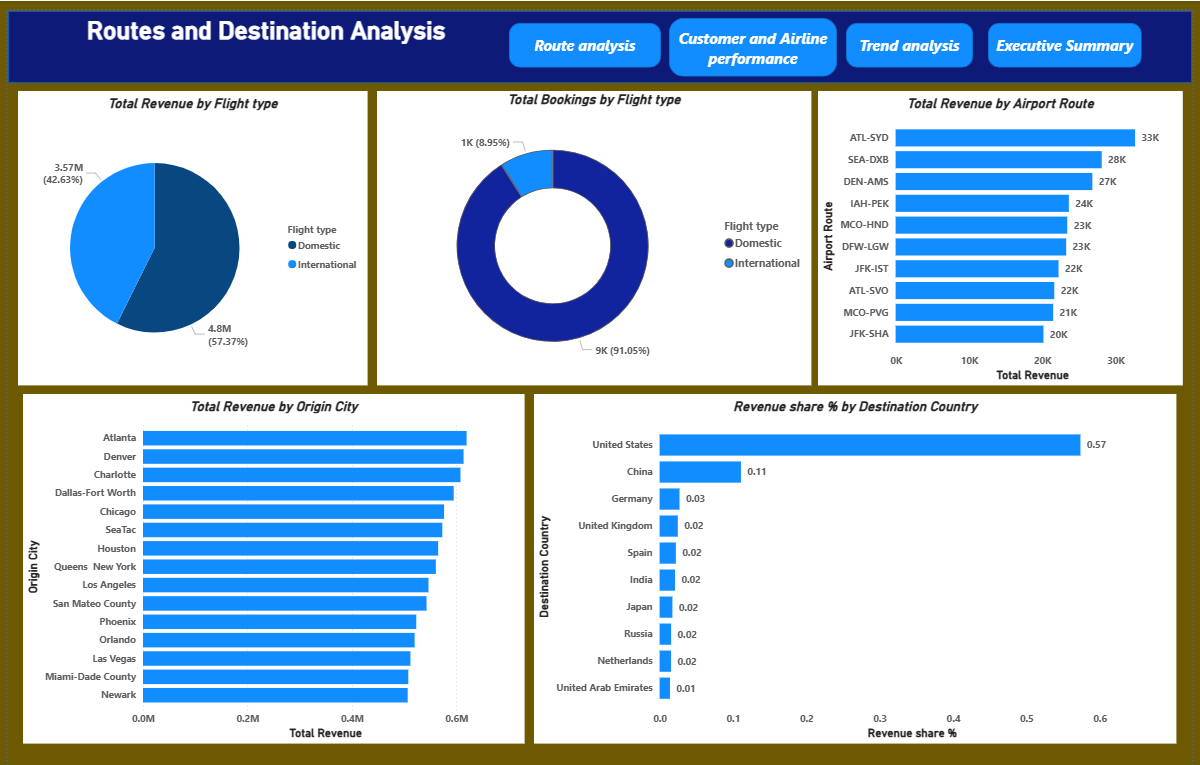

Layout of this report page (visuals, bound fields, positions):
{"tool":"powerbi","page":{"name":"Routes Analysis","canvas":[1480,1080],"ordinal":2},"visuals":[{"type":"shape","box":[0,0,1480,90],"z":0},{"type":"textbox","title":"Routes and Destination Analysis","box":[18.9,6.7,607.8,73.3],"z":1000},{"type":"pieChart","fields":{"Category":["Flights.Flight type"],"Y":["Measures (2).Total Revenue"]},"box":[12,100,437,368],"z":2000},{"type":"barChart","fields":{"Category":["Flights.Airport Route"],"Y":["Measures (2).Total Revenue"]},"box":[1012,100,456,368],"z":3000},{"type":"barChart","fields":{"Category":["Flights.Destination Country"],"Y":["Measures (2).Revenue share %"]},"box":[658,479,803,437],"z":4000},{"type":"shape","box":[626.7,15.6,190,55.6],"z":9000},{"type":"shape","box":[826.7,8.9,210,73.3],"z":10000},{"type":"shape","box":[1047.8,15.6,158.9,55.6],"z":11000},{"type":"shape","box":[1224.4,15.6,192.2,55.6],"z":12000},{"type":"barChart","fields":{"Y":["Measures (2).Total Revenue"],"Category":["Flights.Origin City"]},"box":[19,479,627,437],"z":13000},{"type":"donutChart","fields":{"Category":["Flights.Flight type"],"Y":["Measures (2).Total Bookings"]},"box":[461,100,543,368],"z":14000}]}

Visuals, with their boxes on the page's 1480x1080 design canvas (x1, y1, x2, y2). These are canvas units, not pixel positions in the 1200x765 screenshot, which may show the page scaled, cropped or inside an application window:
shape: [0, 0, 1480, 90]
"Routes and Destination Analysis" textbox: [19, 7, 627, 80]
pieChart - Flights.Flight type x Measures (2).Total Revenue: [12, 100, 449, 468]
barChart - Flights.Airport Route x Measures (2).Total Revenue: [1012, 100, 1468, 468]
barChart - Flights.Destination Country x Measures (2).Revenue share %: [658, 479, 1461, 916]
shape: [627, 16, 817, 71]
shape: [827, 9, 1037, 82]
shape: [1048, 16, 1207, 71]
shape: [1224, 16, 1417, 71]
barChart - Measures (2).Total Revenue x Flights.Origin City: [19, 479, 646, 916]
donutChart - Flights.Flight type x Measures (2).Total Bookings: [461, 100, 1004, 468]
